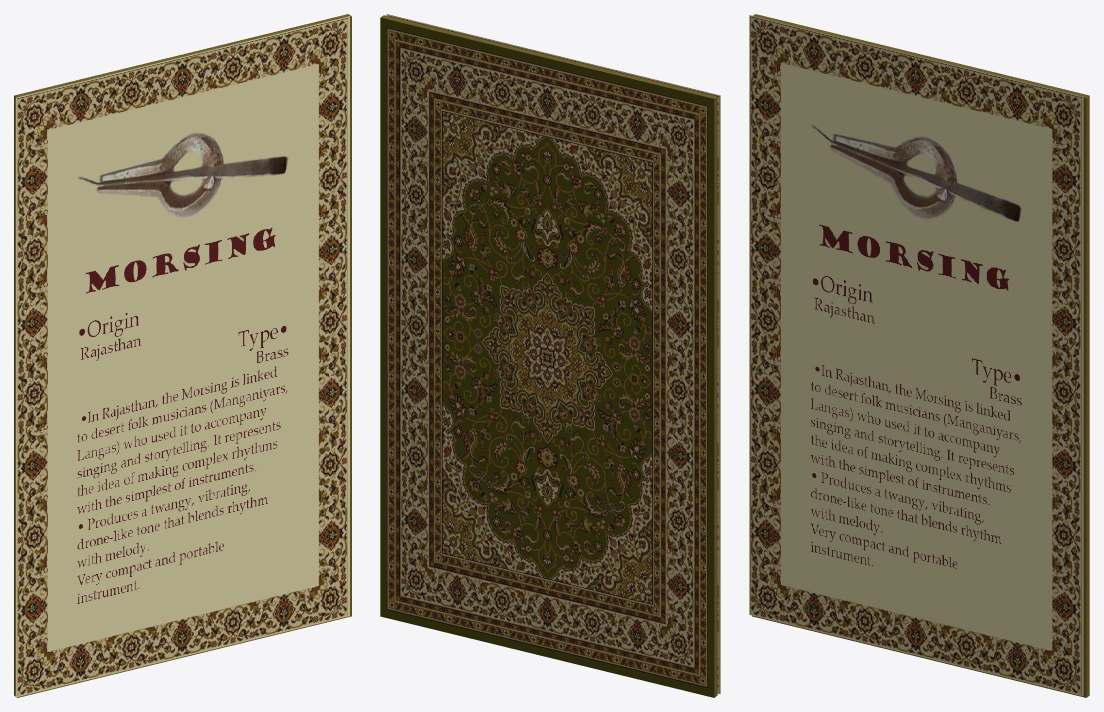
Rendered from morsingcard.glb.
The picture shows the model from 3 angles, left to right: view 1: azimuth 30°, elevation 25°; view 2: azimuth 150°, elevation 25°; view 3: azimuth 330°, elevation 25°; orthographic projection.
Visible parts, largest first — view 1: Plane.002; view 2: Plane.002; view 3: Plane.002.
Boxes of the visible parts, x1,y1,x2,y2 form: Plane.002: (14, 14, 351, 697); Plane.002: (380, 14, 720, 697); Plane.002: (749, 14, 1089, 697).
Bounding box in the file's own units: 0.0705 × 0.1203 × 0.00142.
3 materials, 2 textured.
